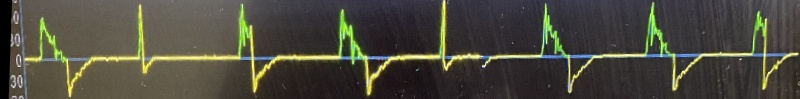hydrop_flow: (11, 0, 800, 99)
